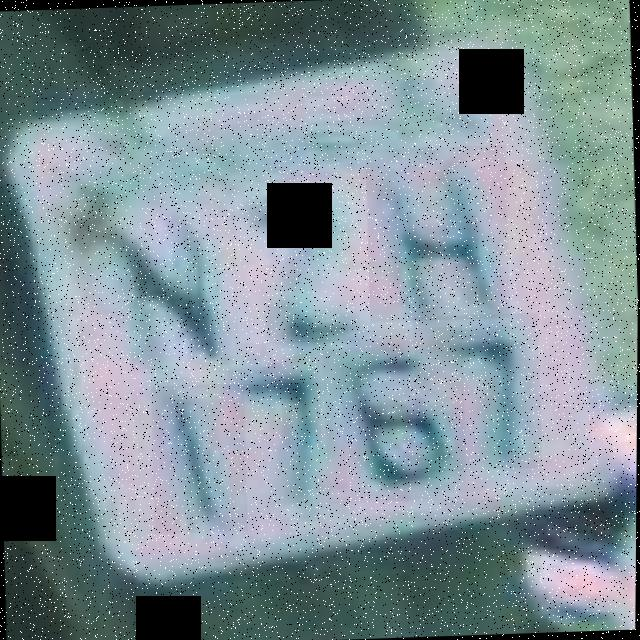1: (150, 382, 249, 534)
3: (233, 178, 372, 343)
6: (322, 326, 469, 504)
7: (226, 351, 349, 523), (412, 313, 543, 472)
H: (365, 144, 512, 322)
N: (90, 203, 237, 380)
